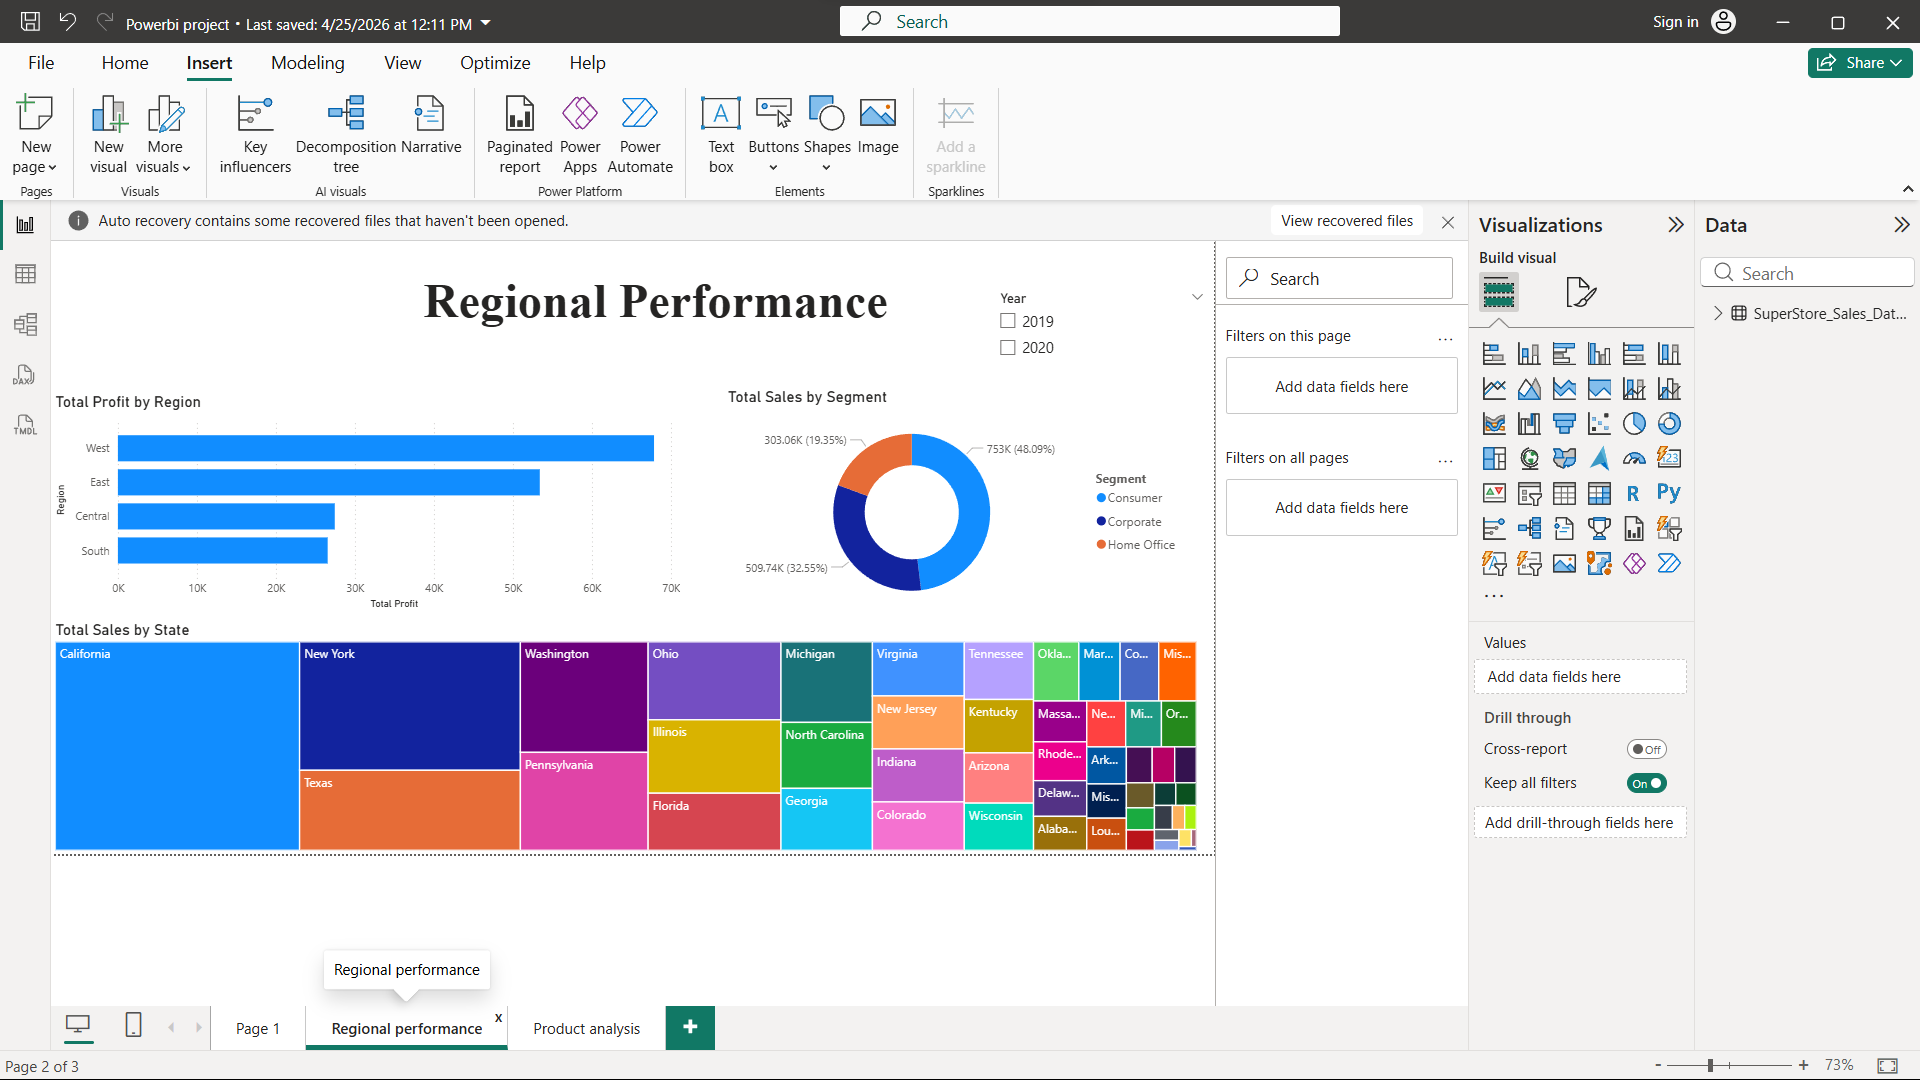

Layout of this report page (visuals, bound fields, positions):
{"tool":"powerbi","page":{"name":"Regional performance","canvas":[1280,720],"ordinal":1},"visuals":[{"type":"treemap","fields":{"Group":["SuperStore_Sales_Dataset.State"],"Values":["SuperStore_Sales_Dataset.Total Sales"]},"box":[0,462.1,1265.2,258.5],"z":0},{"type":"clusteredBarChart","fields":{"Category":["SuperStore_Sales_Dataset.Region"],"Y":["SuperStore_Sales_Dataset.Total Profit"]},"box":[0,211.8,697.2,243.4],"z":1000},{"type":"donutChart","fields":{"Category":["SuperStore_Sales_Dataset.Segment"],"Y":["SuperStore_Sales_Dataset.Total Sales"]},"box":[739.8,206.3,511.6,255.8],"z":2000},{"type":"slicer","fields":{"Values":["SuperStore_Sales_Dataset.Year"]},"box":[1031.4,94.9,248.9,101.8],"z":3000},{"type":"textbox","box":[244.8,75.6,713.7,101.8],"z":4000}]}

Visuals, with their boxes on the page's 1280x720 design canvas (x1, y1, x2, y2). These are canvas units, not pixel positions in the 1920x1080 screenshot, which may show the page scaled, cropped or inside an application window:
treemap - SuperStore_Sales_Dataset.State x SuperStore_Sales_Dataset.Total Sales: bbox=[0, 462, 1265, 721]
clusteredBarChart - SuperStore_Sales_Dataset.Region x SuperStore_Sales_Dataset.Total Profit: bbox=[0, 212, 697, 455]
donutChart - SuperStore_Sales_Dataset.Segment x SuperStore_Sales_Dataset.Total Sales: bbox=[740, 206, 1251, 462]
slicer - SuperStore_Sales_Dataset.Year: bbox=[1031, 95, 1280, 197]
textbox: bbox=[245, 76, 958, 177]
